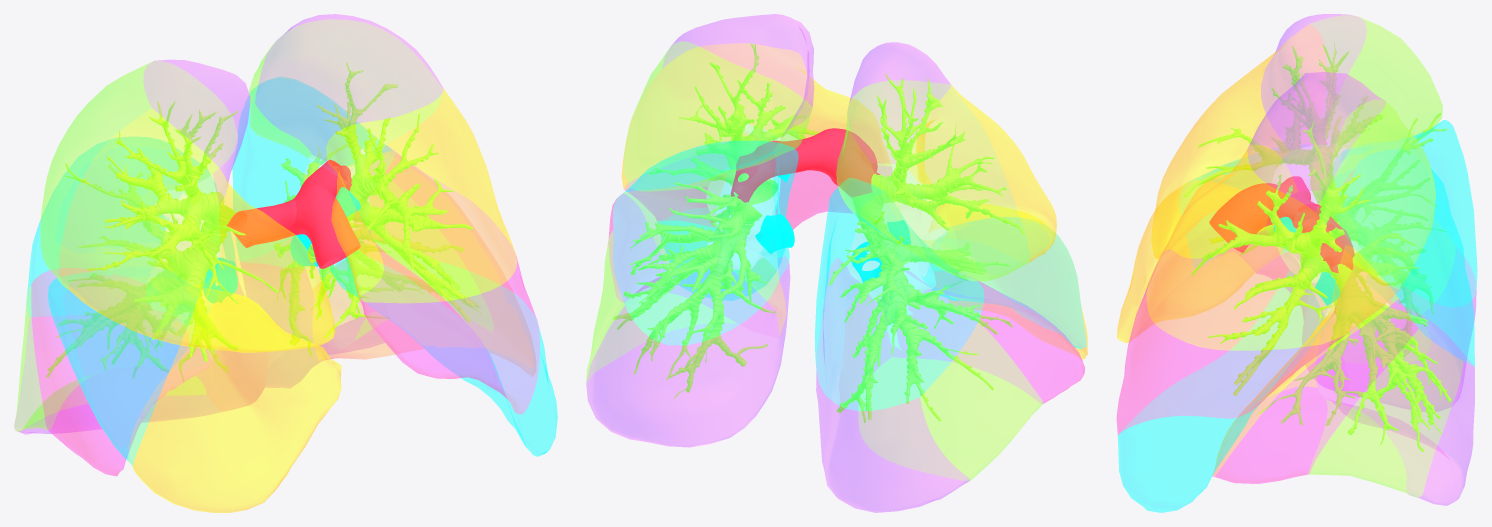
Rendered from lunge-male-mobil.glb.
3 views of the same model, side by side, from view 1: azimuth 30°, elevation 25°; view 2: azimuth 150°, elevation 25°; view 3: azimuth 270°, elevation 25° (orthographic). The views are drawn at different scales.
Parts seen in each view (by area): view 1: 0:34:VH_M_right_anterior_bronchopulmonary_segment, 0:22:VH_M_right_medial_bronchopulmonary_segment, 0:8:VH_M_left_anterior_bronchopulmonary_segment, 0:6:VH_M_left_lingula_superior_bronchopulmonary_segment, 0:21:VH_M_right_lateral_bronchopulmonary_segment, 0:26:VH_M_right_anterior_basal_bronchopulmonary_segment, 0:9:VH_M_left_apical_bronchopulmonary_segment, 0:33:VH_M_right_posterior_bronchopulmonary_segment, 0:30:VH_M_right_superior_bronchopulmonary_segment, 0:7:VH_M_left_posterior_bronchopulmonary_segment, 0:15:VH_M_left_medial_basal_bronchopulmonary_segment, 0:17:VH_M_left_superior_bronchopulmonary_segment (+28 smaller); view 2: 0:17:VH_M_left_superior_bronchopulmonary_segment, 0:33:VH_M_right_posterior_bronchopulmonary_segment, 0:30:VH_M_right_superior_bronchopulmonary_segment, 0:16:VH_M_left_posetrior_basal_bronchopulmonary_segment, 0:7:VH_M_left_posterior_bronchopulmonary_segment, 0:27:VH_M_right_lateral_basal_bronchopulmonary_segment, 0:8:VH_M_left_anterior_bronchopulmonary_segment, 0:29:VH_M_right_posterior_basal_bronchopulmonary_segment, 0:21:VH_M_right_lateral_bronchopulmonary_segment, 0:34:VH_M_right_anterior_bronchopulmonary_segment, 0:26:VH_M_right_anterior_basal_bronchopulmonary_segment, 0:22:VH_M_right_medial_bronchopulmonary_segment (+30 smaller); view 3: 0:8:VH_M_left_anterior_bronchopulmonary_segment, 0:6:VH_M_left_lingula_superior_bronchopulmonary_segment, 0:10:VH_M_left_lingula_inferior_bronchopulmonary_segment, 0:17:VH_M_left_superior_bronchopulmonary_segment, 0:7:VH_M_left_posterior_bronchopulmonary_segment, 0:14:VH_M_left_lateral_basal_bronchopulmonary_segment, 0:13:VH_M_left_anterior_basal_bronchopulmonary_segment, 0:16:VH_M_left_posetrior_basal_bronchopulmonary_segment, 0:34:VH_M_right_anterior_bronchopulmonary_segment, 0:9:VH_M_left_apical_bronchopulmonary_segment, 0:33:VH_M_right_posterior_bronchopulmonary_segment, 0:22:VH_M_right_medial_bronchopulmonary_segment (+27 smaller).
Boxes of the visible parts, x1,y1,x2,y2 form: 0:34:VH_M_right_anterior_bronchopulmonary_segment: (59, 108, 335, 352); 0:22:VH_M_right_medial_bronchopulmonary_segment: (129, 289, 341, 512); 0:8:VH_M_left_anterior_bronchopulmonary_segment: (326, 89, 516, 302); 0:6:VH_M_left_lingula_superior_bronchopulmonary_segment: (359, 145, 539, 414); 0:21:VH_M_right_lateral_bronchopulmonary_segment: (47, 265, 197, 465); 0:26:VH_M_right_anterior_basal_bronchopulmonary_segment: (31, 270, 187, 476); 0:9:VH_M_left_apical_bronchopulmonary_segment: (255, 14, 443, 161); 0:33:VH_M_right_posterior_bronchopulmonary_segment: (40, 61, 237, 287); 0:30:VH_M_right_superior_bronchopulmonary_segment: (27, 136, 234, 316); 0:7:VH_M_left_posterior_bronchopulmonary_segment: (249, 20, 442, 158); 0:15:VH_M_left_medial_basal_bronchopulmonary_segment: (320, 152, 533, 368); 0:17:VH_M_left_superior_bronchopulmonary_segment: (232, 77, 391, 260); 0:17:VH_M_left_superior_bronchopulmonary_segment: (613, 140, 798, 345); 0:33:VH_M_right_posterior_bronchopulmonary_segment: (836, 80, 1029, 281); 0:30:VH_M_right_superior_bronchopulmonary_segment: (814, 178, 983, 410); 0:16:VH_M_left_posetrior_basal_bronchopulmonary_segment: (586, 257, 790, 447); 0:7:VH_M_left_posterior_bronchopulmonary_segment: (624, 41, 812, 190); 0:27:VH_M_right_lateral_basal_bronchopulmonary_segment: (859, 322, 1042, 480); 0:8:VH_M_left_anterior_bronchopulmonary_segment: (621, 43, 890, 189); 0:29:VH_M_right_posterior_basal_bronchopulmonary_segment: (816, 257, 969, 512); 0:21:VH_M_right_lateral_bronchopulmonary_segment: (922, 217, 1086, 349); 0:34:VH_M_right_anterior_bronchopulmonary_segment: (909, 85, 1056, 261); 0:26:VH_M_right_anterior_basal_bronchopulmonary_segment: (893, 280, 1085, 403); 0:22:VH_M_right_medial_bronchopulmonary_segment: (928, 203, 1087, 359); 0:8:VH_M_left_anterior_bronchopulmonary_segment: (1146, 145, 1398, 350); 0:6:VH_M_left_lingula_superior_bronchopulmonary_segment: (1116, 230, 1398, 434); 0:10:VH_M_left_lingula_inferior_bronchopulmonary_segment: (1118, 270, 1325, 512); 0:17:VH_M_left_superior_bronchopulmonary_segment: (1336, 148, 1474, 366); 0:7:VH_M_left_posterior_bronchopulmonary_segment: (1315, 100, 1435, 288); 0:14:VH_M_left_lateral_basal_bronchopulmonary_segment: (1309, 329, 1463, 497); 0:13:VH_M_left_anterior_basal_bronchopulmonary_segment: (1212, 299, 1417, 483); 0:16:VH_M_left_posetrior_basal_bronchopulmonary_segment: (1316, 301, 1474, 505); 0:34:VH_M_right_anterior_bronchopulmonary_segment: (1151, 24, 1326, 258); 0:9:VH_M_left_apical_bronchopulmonary_segment: (1247, 72, 1385, 210); 0:33:VH_M_right_posterior_bronchopulmonary_segment: (1311, 15, 1442, 148); 0:22:VH_M_right_medial_bronchopulmonary_segment: (1117, 181, 1282, 342).
Size of the model in its own units: 0.2594 by 0.2291 by 0.1897.
